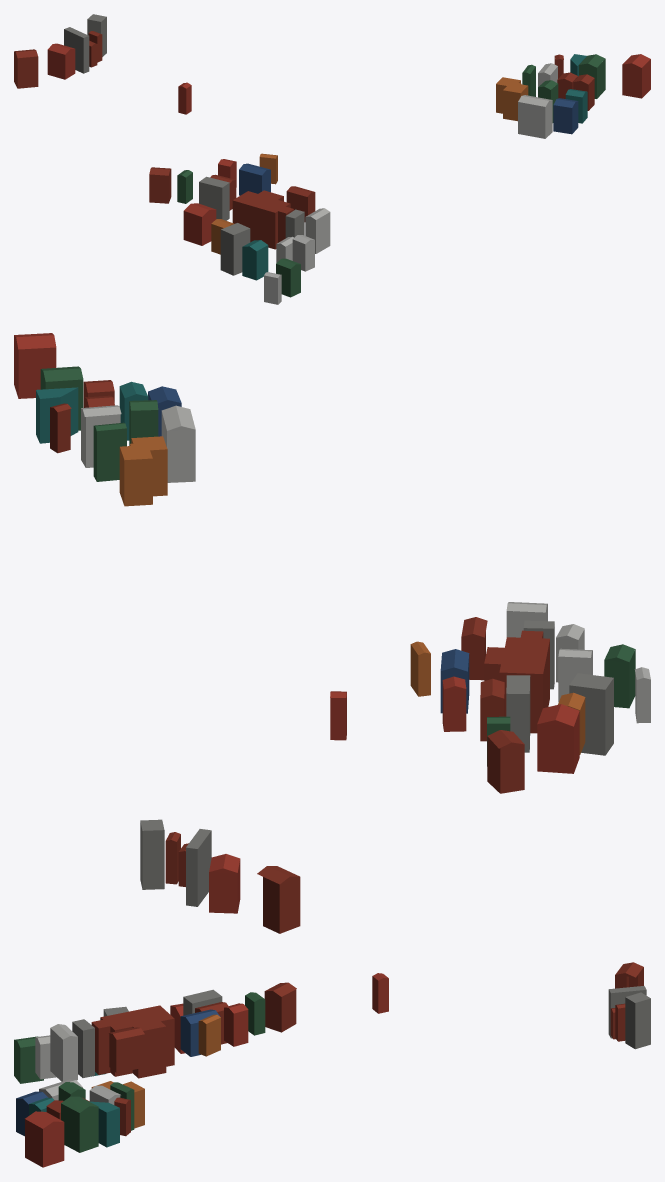
The model's file is near-17-109447-59482.ed675e86.glb.
3 renders of one model, top to bottom at view 1: azimuth 30°, elevation 25°; view 2: azimuth 150°, elevation 25°; view 3: azimuth 270°, elevation 25°, orthographic. The views are drawn at different scales.
Size of the model in its own units: 278 by 97.17 by 296.
